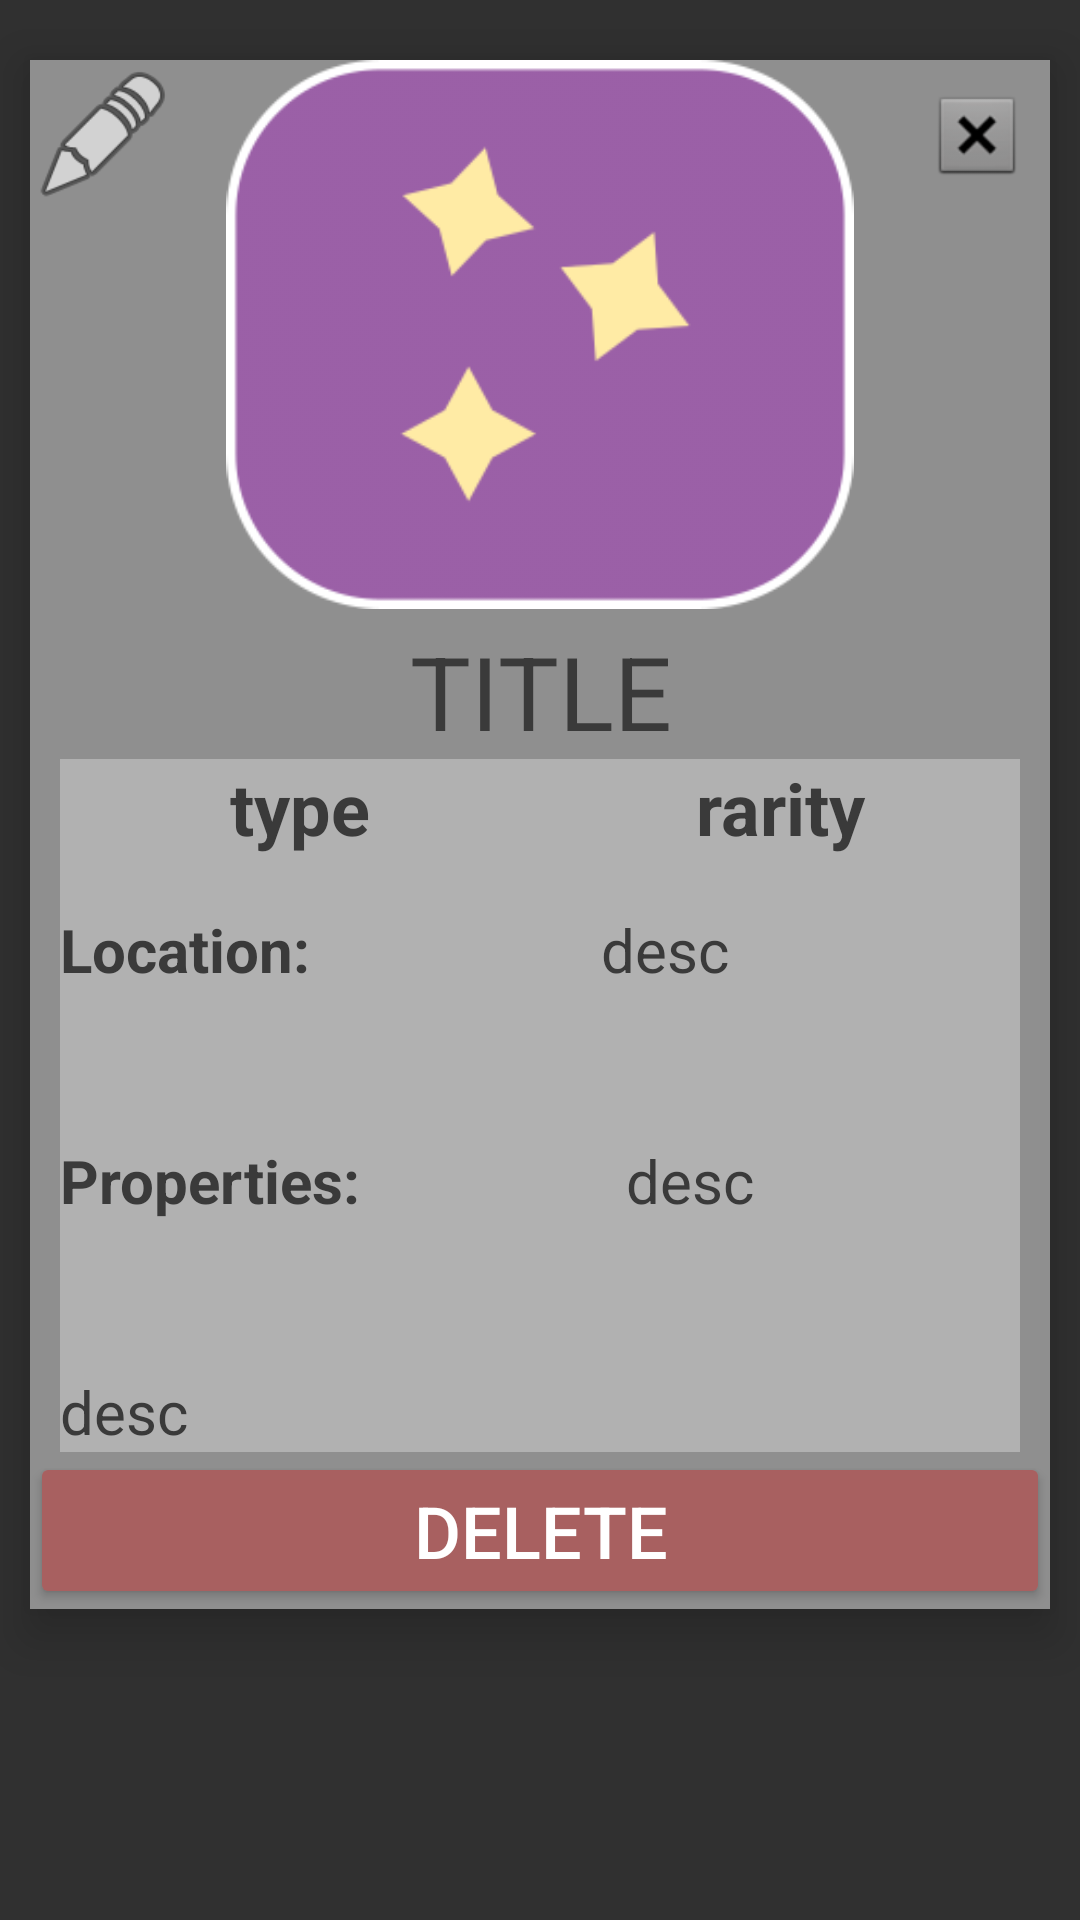

Locate icon controls on the screen. Image size 1080px×1920px, boxes as (x1, y1, x2, y2).
edit: (41, 72, 165, 196)
